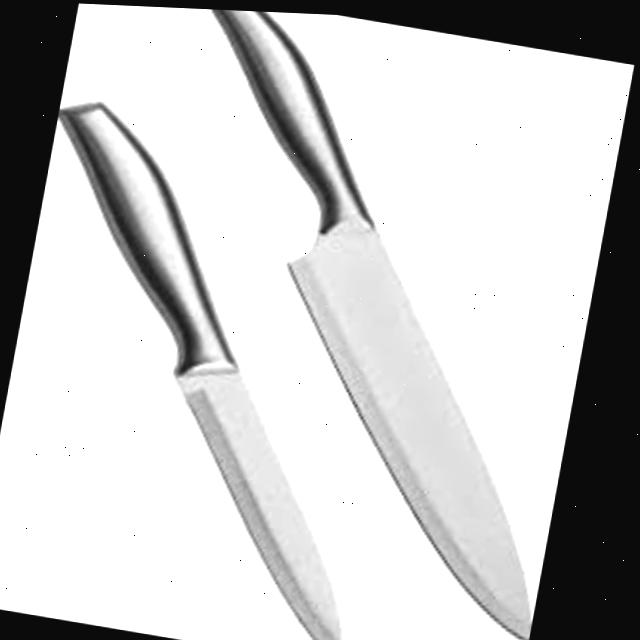Knife: (111, 5, 636, 639), (0, 87, 445, 640)
